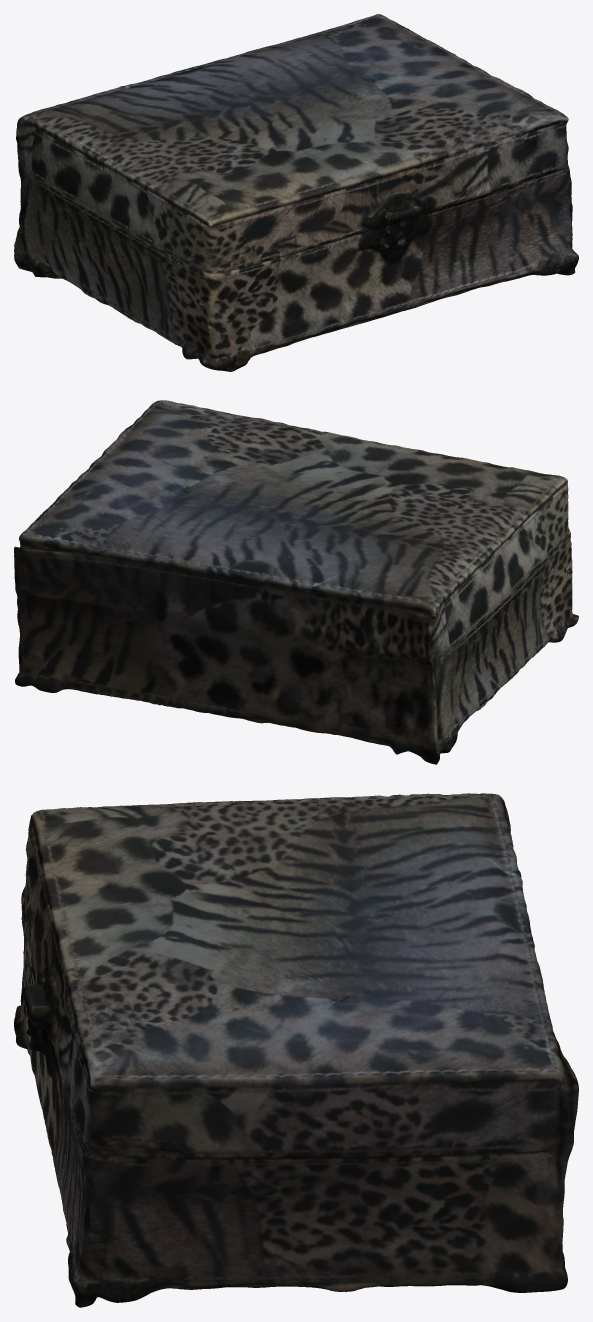
Rendered from BoxModel.fbx.
3 renders of one model, top to bottom at view 1: azimuth 30°, elevation 25°; view 2: azimuth 150°, elevation 25°; view 3: azimuth 270°, elevation 25°, orthographic. The views are drawn at different scales.
Visible parts, largest first — view 1: 3DModel; view 2: 3DModel; view 3: 3DModel.
Boxes of the visible parts, bbox=[...] form: 3DModel: bbox=[14, 14, 578, 371]; 3DModel: bbox=[14, 400, 578, 764]; 3DModel: bbox=[14, 793, 578, 1307].
Bounding box in the file's own units: 41.09 × 15.02 × 32.76.
Materials: 1 (1 with a texture image).
